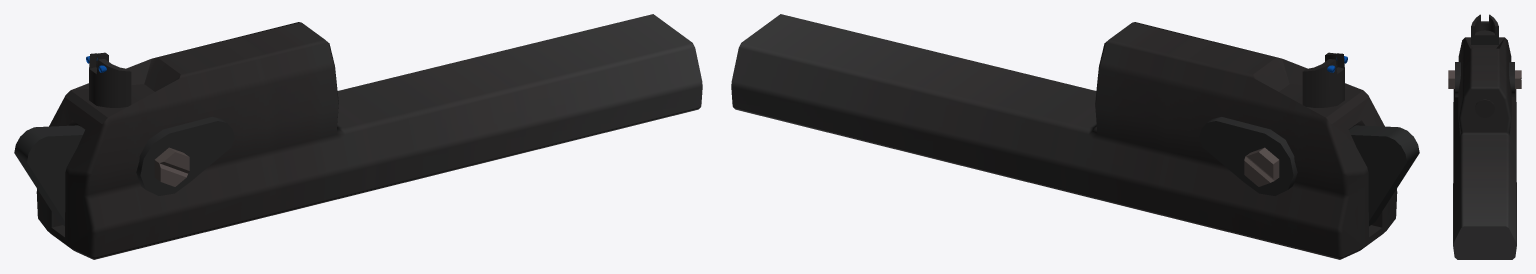
File: Pistol1_Bolt.fbx
3 renders of one model, left to right at view 1: azimuth 30°, elevation 25°; view 2: azimuth 150°, elevation 25°; view 3: azimuth 270°, elevation 25°, orthographic. The views are drawn at different scales.
Parts seen in each view (by area): view 1: Pistol1_Bolt; view 2: Pistol1_Bolt; view 3: Pistol1_Bolt.
Part boxes in pixels (x1,y1,x2,y2): Pistol1_Bolt: (14, 14, 702, 259); Pistol1_Bolt: (731, 14, 1419, 259); Pistol1_Bolt: (1448, 14, 1521, 259).
Size of the model in its own units: 27.93 by 5.08 by 7.29.
